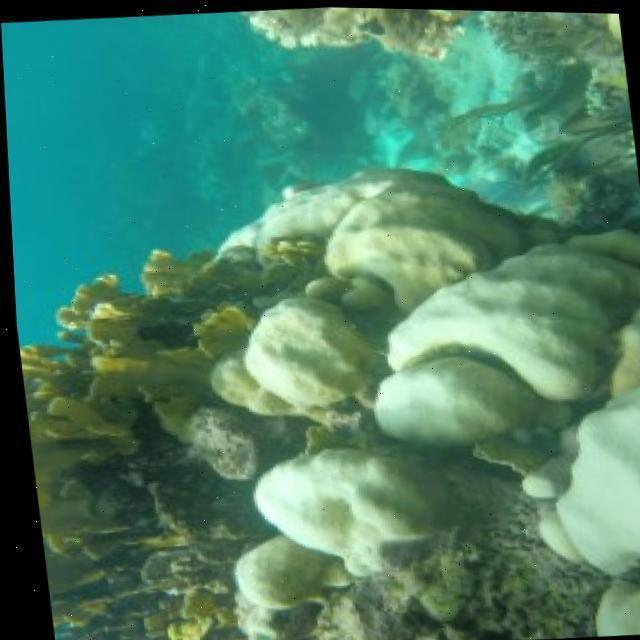Healthy Coral: (228, 212, 640, 534)
